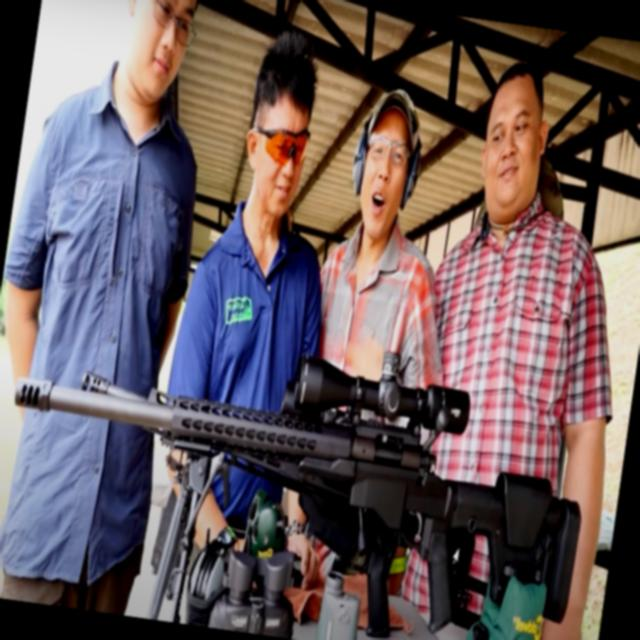rifle: (0, 285, 608, 640)
